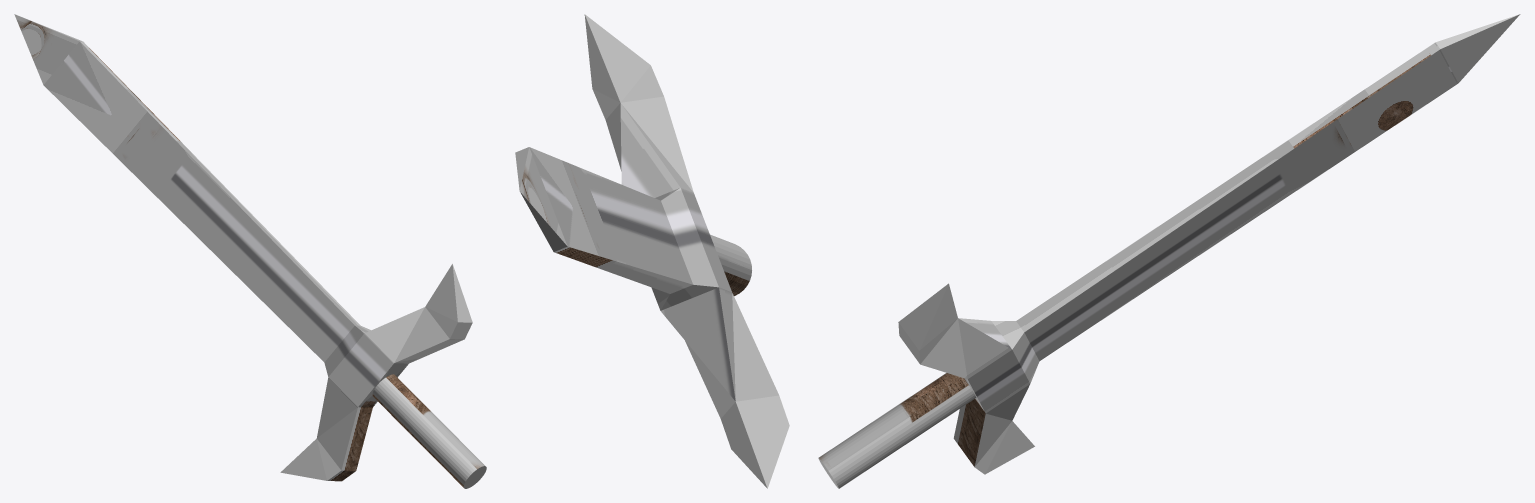
Rendered from Protagonista125.obj.
3 views of the same model, side by side, from view 1: azimuth 30°, elevation 25°; view 2: azimuth 150°, elevation 25°; view 3: azimuth 270°, elevation 25° (orthographic). The views are drawn at different scales.
Parts seen in each view (by area): view 1: Cube; view 2: Cube; view 3: Cube.
Boxes of the visible parts, x1,y1,x2,y2 form: Cube: (14, 14, 486, 488); Cube: (515, 14, 789, 488); Cube: (818, 14, 1520, 488).
Bounding box in the file's own units: 0.6122 × 0.9239 × 1.48.
Materials: 1 (1 with a texture image).
